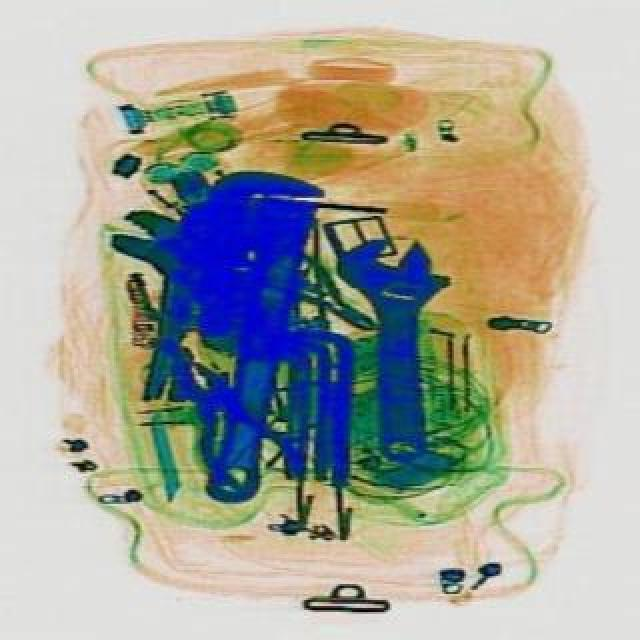scissors: (342, 240, 464, 466)
wrench: (152, 346, 316, 516)
